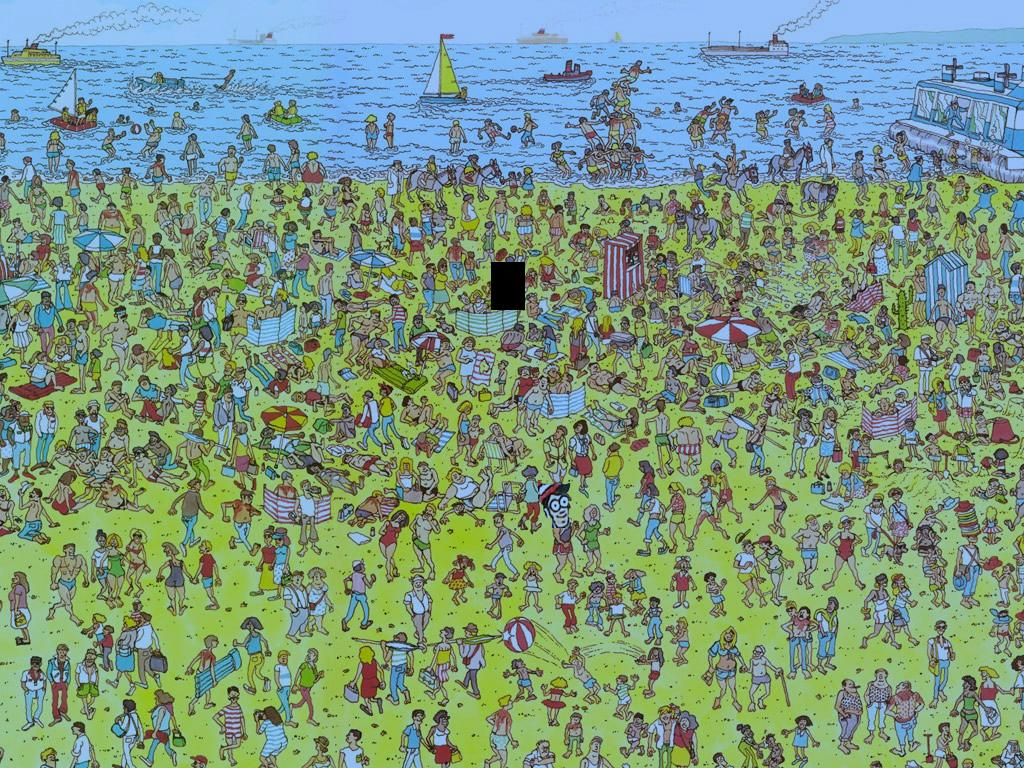waldos: (538, 480, 572, 528)
